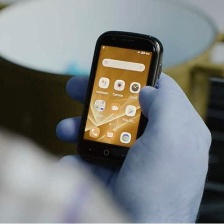phone: (72, 27, 169, 173)
